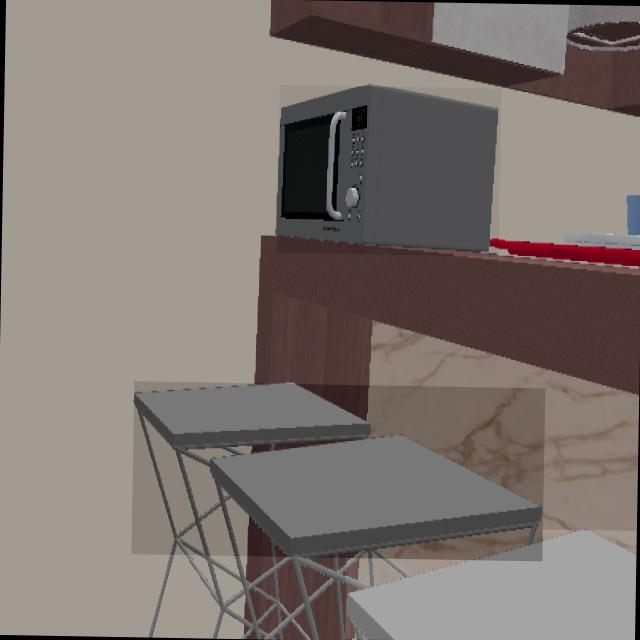chair: (134, 383, 543, 557), (345, 530, 636, 640)
microwave: (276, 86, 501, 255)
